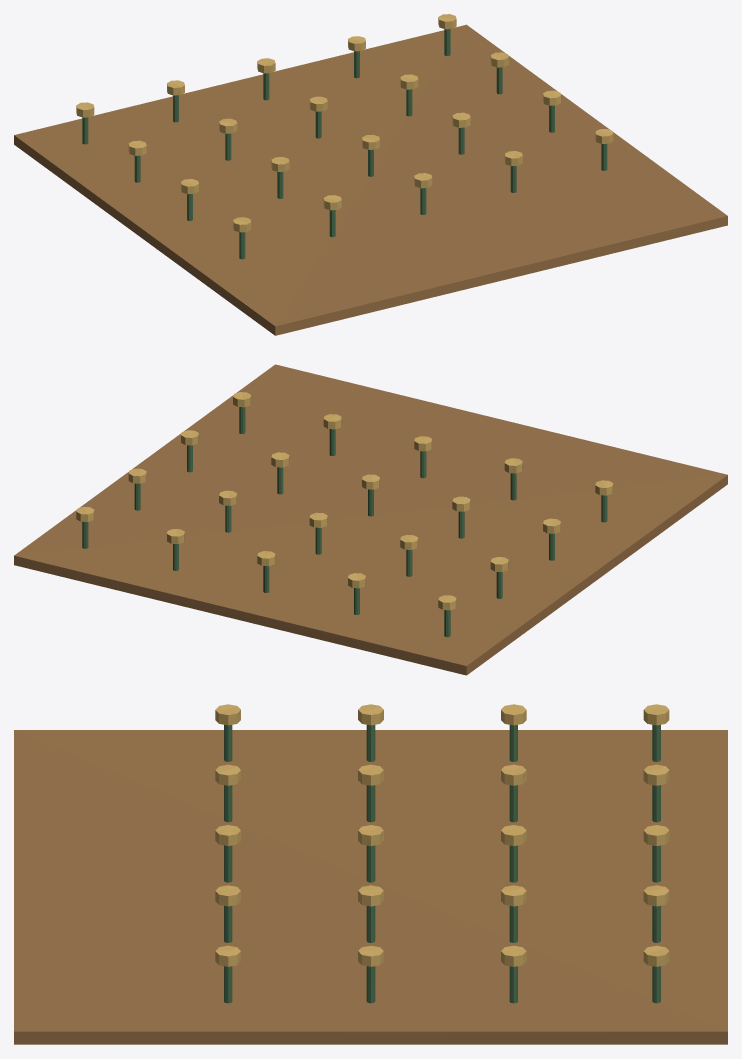
Rendered from Wildflower-meadow.glb.
The picture shows the model from 3 angles, top to bottom: view 1: azimuth 30°, elevation 25°; view 2: azimuth 150°, elevation 25°; view 3: azimuth 270°, elevation 25°; orthographic projection. The views are drawn at different scales.
Visible parts, largest first — view 1: wildflower-meadow-static-wildflower-meadow-earth, wildflower-meadow-static-wildflower-meadow-flower, wildflower-meadow-static-wildflower-meadow-leaf; view 2: wildflower-meadow-static-wildflower-meadow-earth, wildflower-meadow-static-wildflower-meadow-flower, wildflower-meadow-static-wildflower-meadow-leaf; view 3: wildflower-meadow-static-wildflower-meadow-earth, wildflower-meadow-static-wildflower-meadow-flower, wildflower-meadow-static-wildflower-meadow-leaf.
Boxes of the visible parts, <box> form: wildflower-meadow-static-wildflower-meadow-earth: <box>14,24,727,335</box>; wildflower-meadow-static-wildflower-meadow-flower: <box>76,14,613,232</box>; wildflower-meadow-static-wildflower-meadow-leaf: <box>82,29,607,259</box>; wildflower-meadow-static-wildflower-meadow-earth: <box>14,364,727,675</box>; wildflower-meadow-static-wildflower-meadow-flower: <box>76,392,613,610</box>; wildflower-meadow-static-wildflower-meadow-leaf: <box>82,407,607,637</box>; wildflower-meadow-static-wildflower-meadow-earth: <box>14,730,727,1044</box>; wildflower-meadow-static-wildflower-meadow-flower: <box>215,704,669,966</box>; wildflower-meadow-static-wildflower-meadow-leaf: <box>224,724,660,1003</box>.
Size of the model in its own units: 5 by 0.49 by 5.
